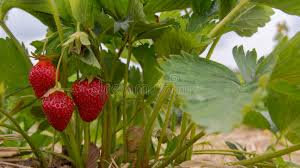ripe: (71, 73, 113, 123), (41, 89, 78, 134), (29, 56, 61, 98)
